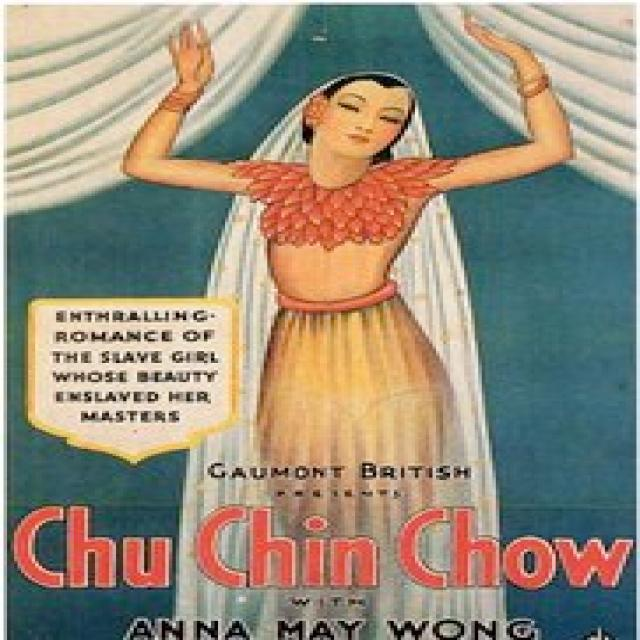movie-judul: (9, 507, 640, 597)
picture: (129, 17, 581, 464)
